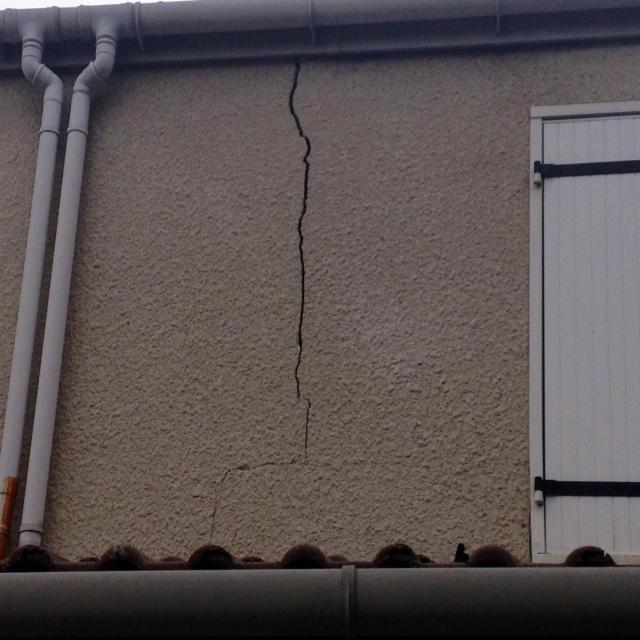crack: (204, 57, 314, 544)
